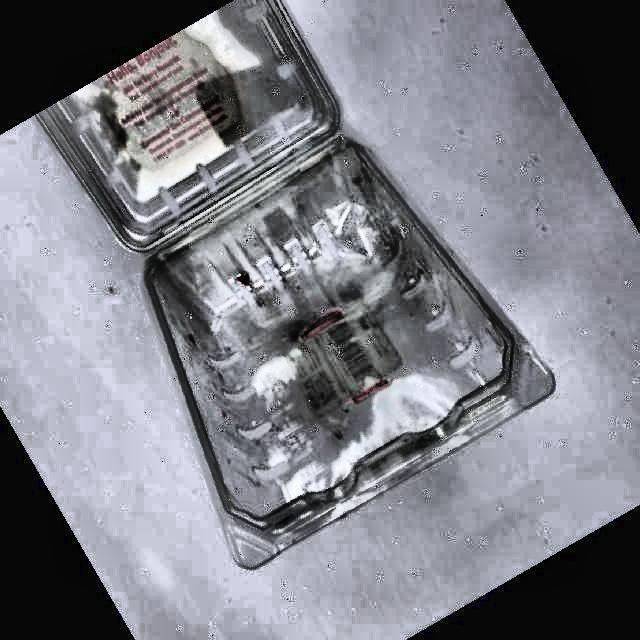plastic: (38, 0, 554, 568)
